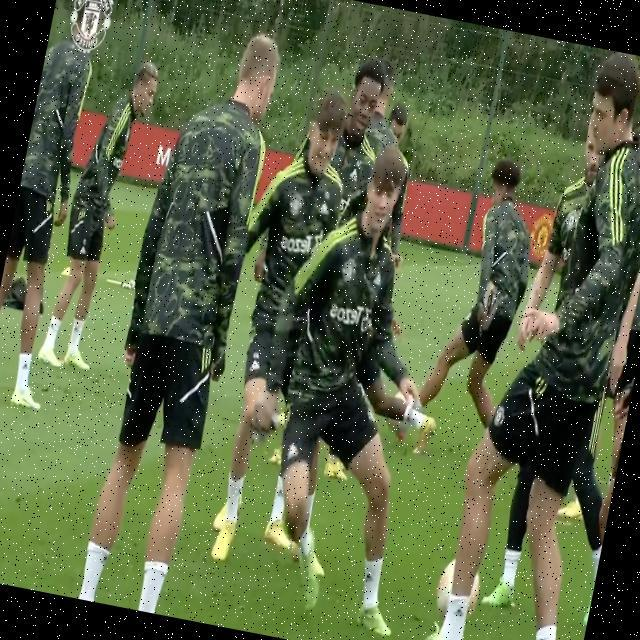Adidas: (286, 441, 300, 462), (317, 200, 331, 218), (370, 270, 383, 289), (348, 164, 360, 184), (452, 604, 466, 621), (249, 357, 262, 373), (363, 570, 375, 586)
